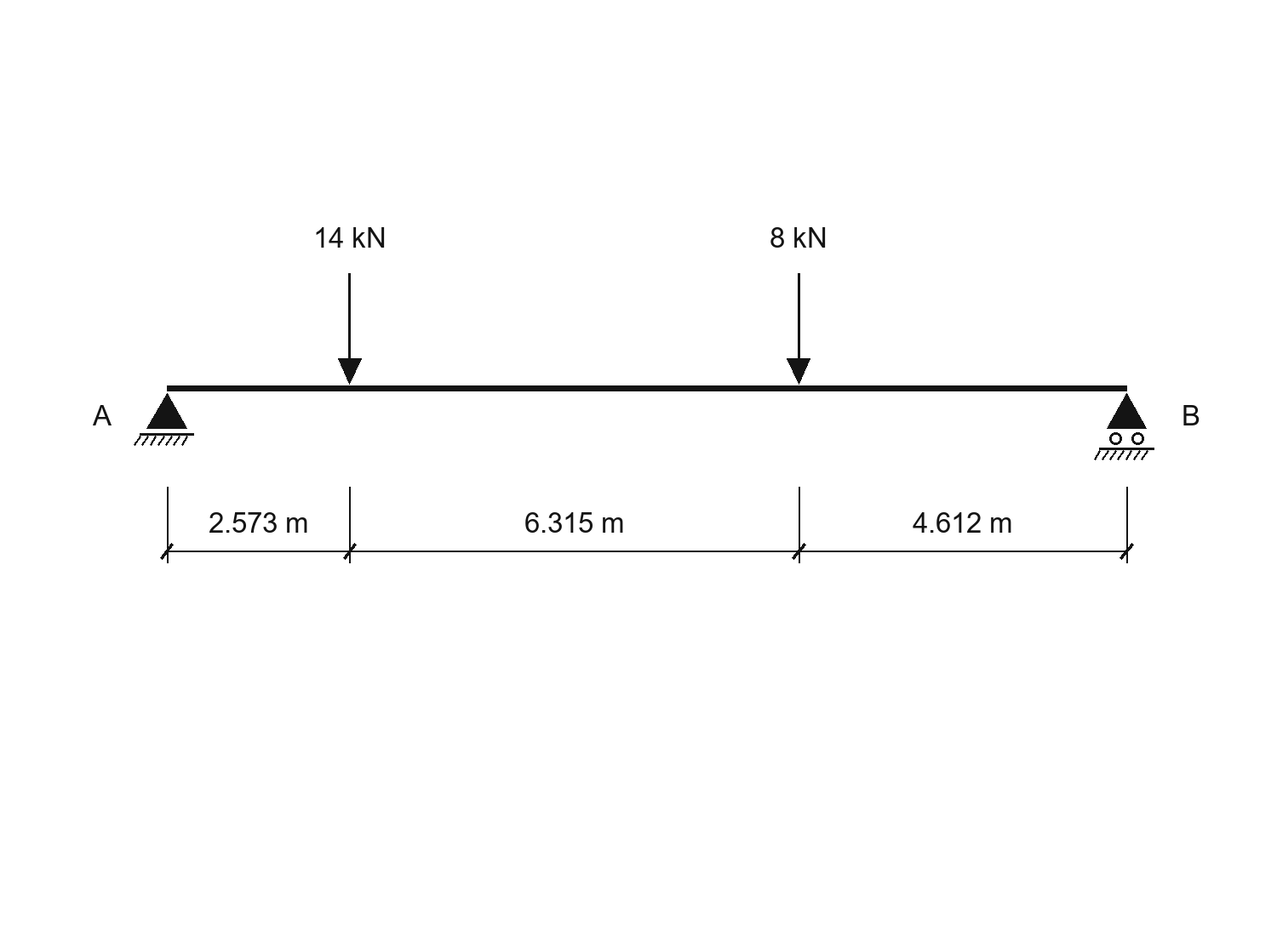pin_support: (134, 393, 194, 446)
point_load: (338, 273, 362, 385), (787, 273, 810, 385)
roller_support: (1094, 393, 1154, 460)
